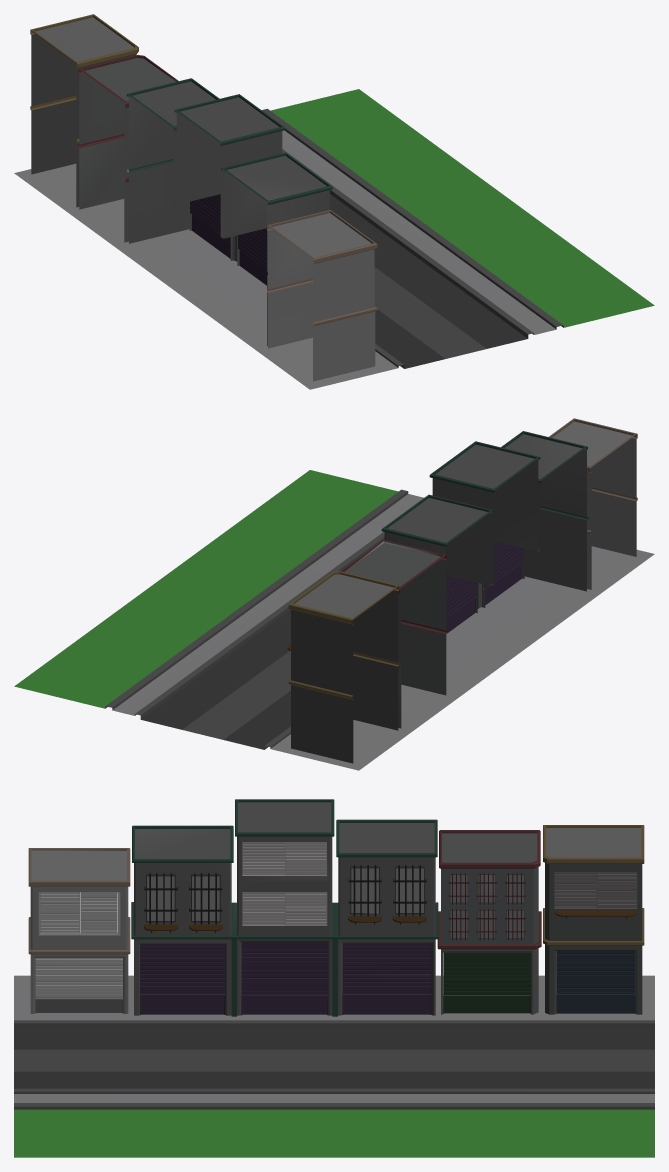
Rendered from Tile_Rua_1.fbx.
The picture shows the model from 3 angles, top to bottom: view 1: azimuth 30°, elevation 25°; view 2: azimuth 150°, elevation 25°; view 3: azimuth 270°, elevation 25°; orthographic projection. The views are drawn at different scales.
Parts seen in each view (by area): view 1: Tile_Rua_1; view 2: Tile_Rua_1; view 3: Tile_Rua_1.
Boxes of the visible parts, box(x1,y1,x2,y2) form: Tile_Rua_1: box(14, 14, 654, 389); Tile_Rua_1: box(14, 418, 654, 770); Tile_Rua_1: box(14, 799, 654, 1157).
Size of the model in its own units: 1209 by 574 by 1797.
